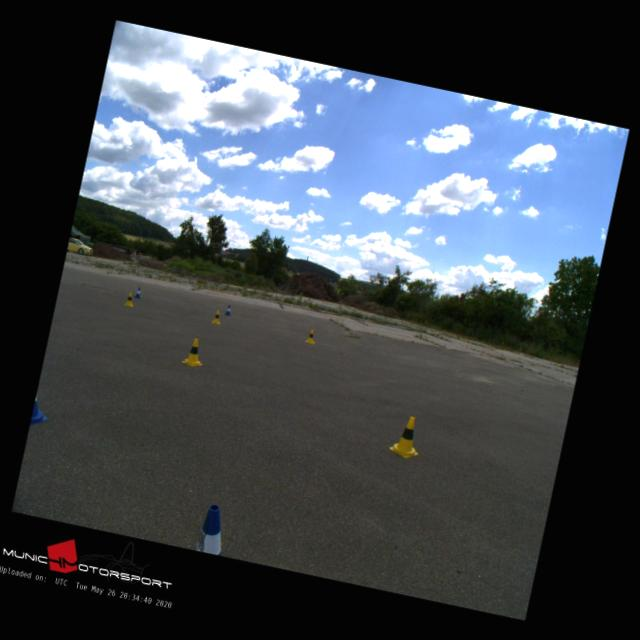blue_cone: (133, 286, 143, 298), (224, 304, 232, 316)
yellow_cone: (388, 413, 426, 459), (182, 336, 206, 368), (304, 328, 318, 343), (123, 291, 135, 307), (212, 309, 222, 324)
